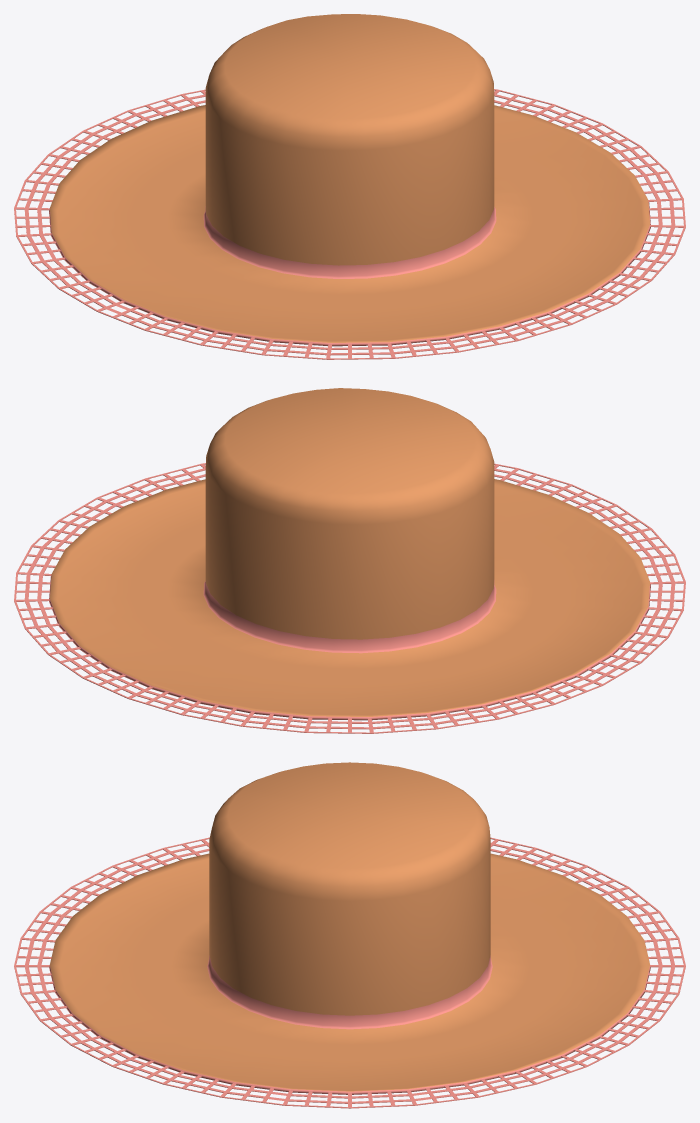
The model's file is Straw_Hat.fbx.
The picture shows the model from 3 angles, top to bottom: view 1: azimuth 30°, elevation 25°; view 2: azimuth 150°, elevation 25°; view 3: azimuth 270°, elevation 25°; orthographic projection.
Parts seen in each view (by area): view 1: Straw_Hat; view 2: Straw_Hat; view 3: Straw_Hat.
Part boxes in pixels (x1=…): Straw_Hat: x1=14, y1=14, x2=685, y2=359; Straw_Hat: x1=14, y1=388, x2=685, y2=733; Straw_Hat: x1=14, y1=762, x2=685, y2=1108.
Size of the model in its own units: 187 by 47.44 by 187.
